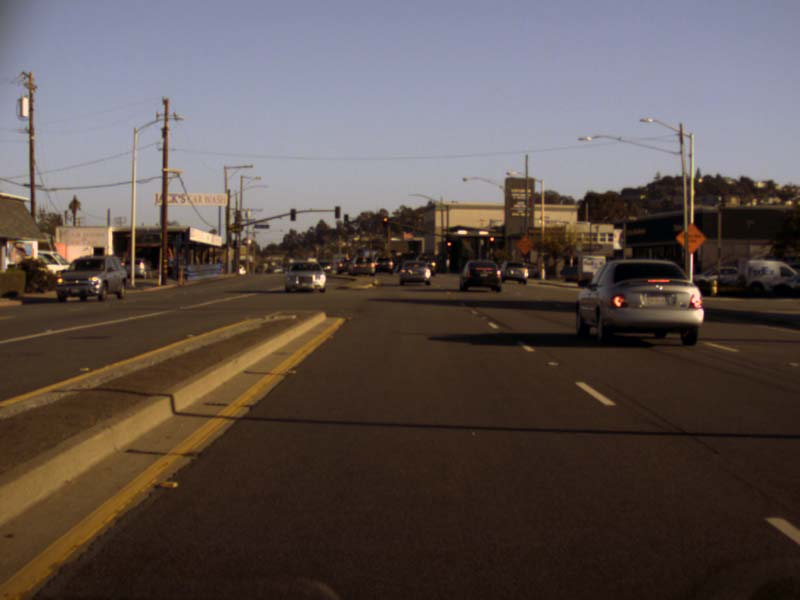Green: (344, 214, 347, 225)
Red: (382, 217, 387, 228), (489, 236, 493, 248), (447, 241, 451, 252)
